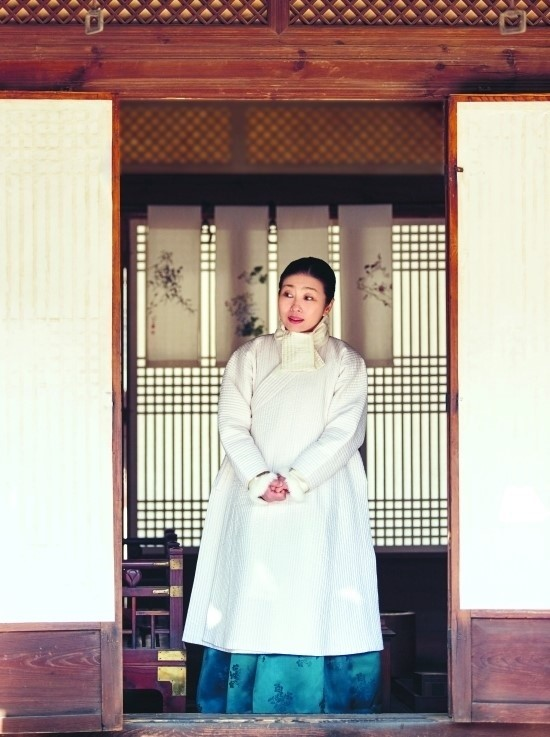face_no_mask: (277, 256, 334, 332)
